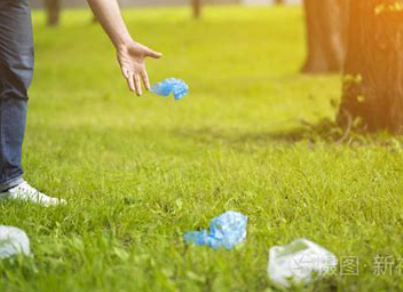garbage: (264, 239, 349, 283), (176, 205, 251, 251), (143, 78, 191, 102)
